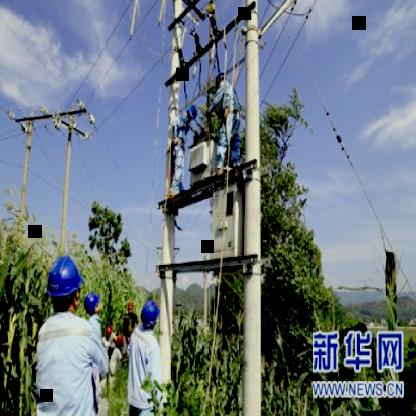helmet: (44, 253, 82, 315), (141, 300, 161, 334), (82, 290, 105, 316), (183, 101, 200, 123)
